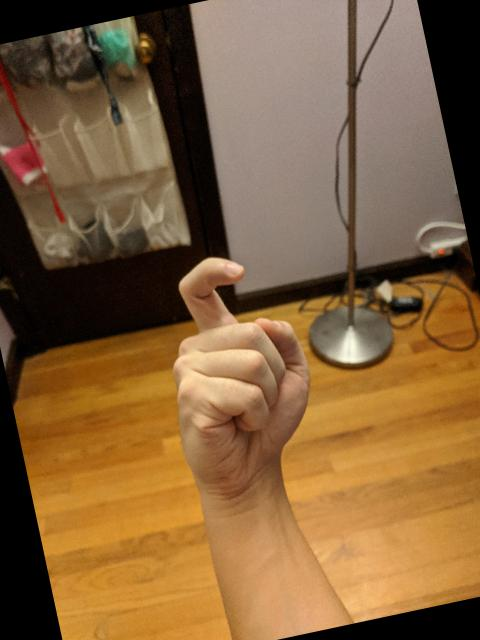X: (140, 236, 336, 502)
